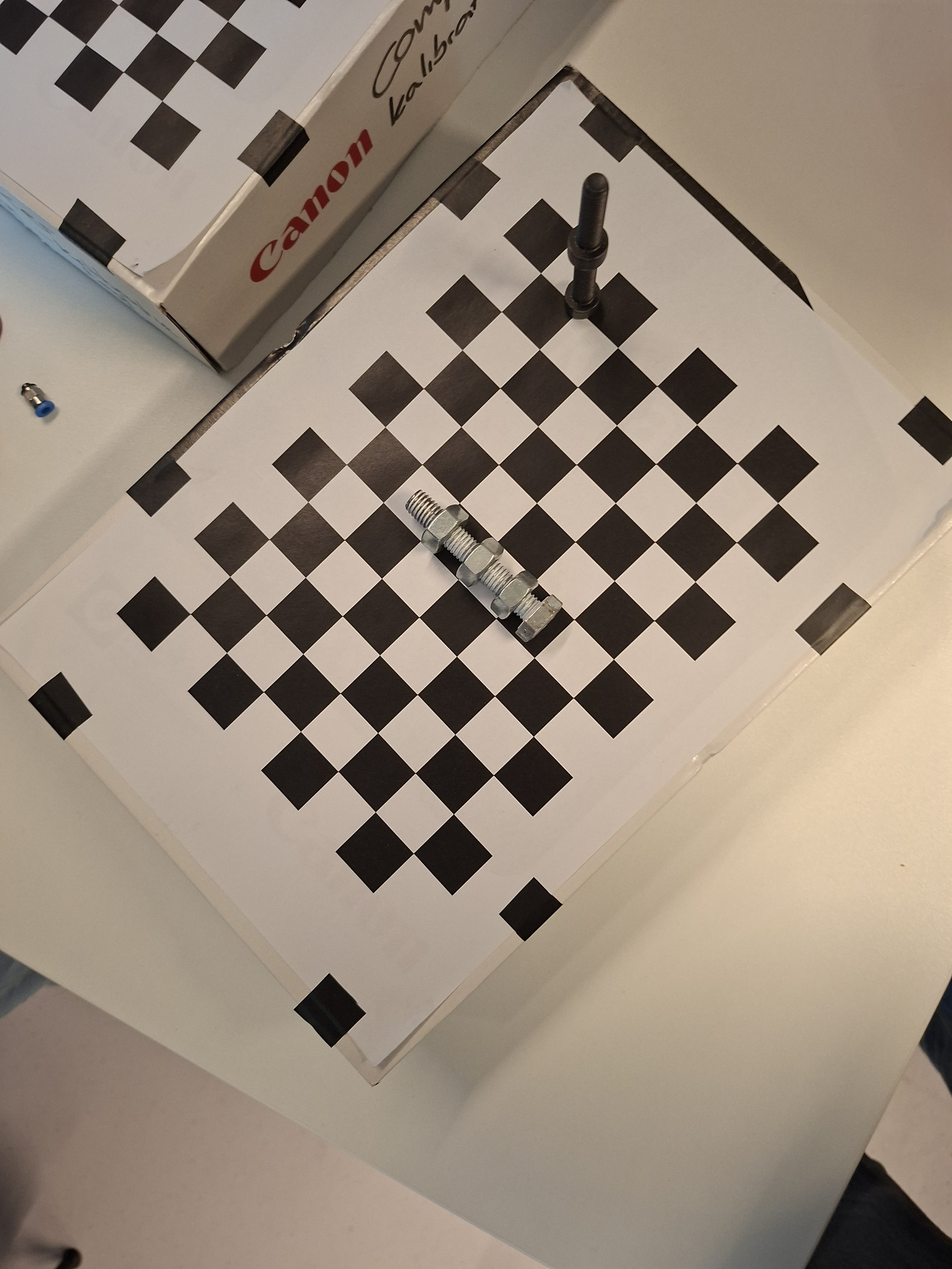allen_screw: (561, 170, 609, 272), (556, 263, 606, 323)
hex_bolt: (391, 476, 570, 650)
hex_nut: (408, 494, 477, 563), (484, 563, 547, 626), (450, 531, 510, 591)
